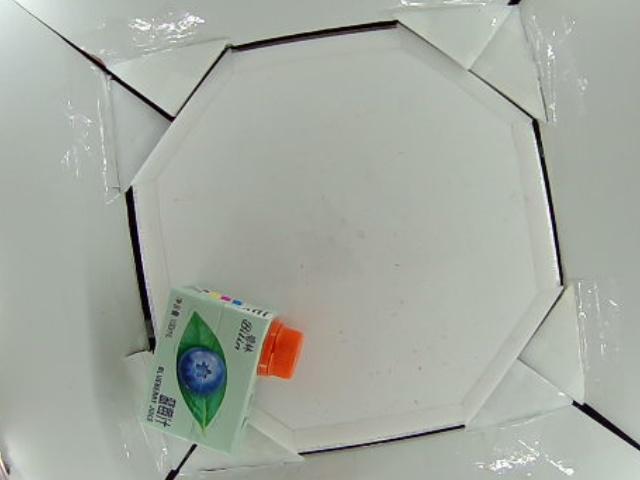Bottle: (141, 282, 302, 457)
